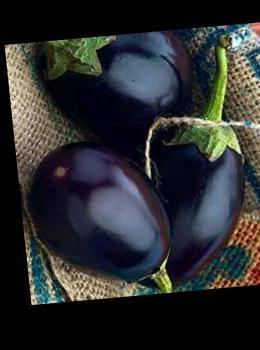eggplant: (33, 28, 259, 289), (14, 135, 172, 297)
